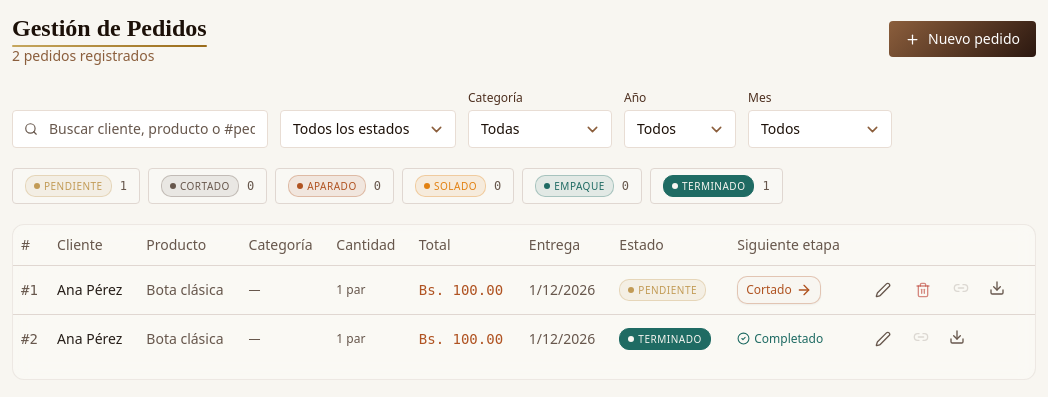
PedidosView — filtro por estado › el pill de estado alterna el filtro (click de nuevo lo desactiva)
Check: the text "#1" is shown, box [13,265,49,314]
Click the button "Pendiente 1".
click(76, 186)  # box [12,168,140,204]
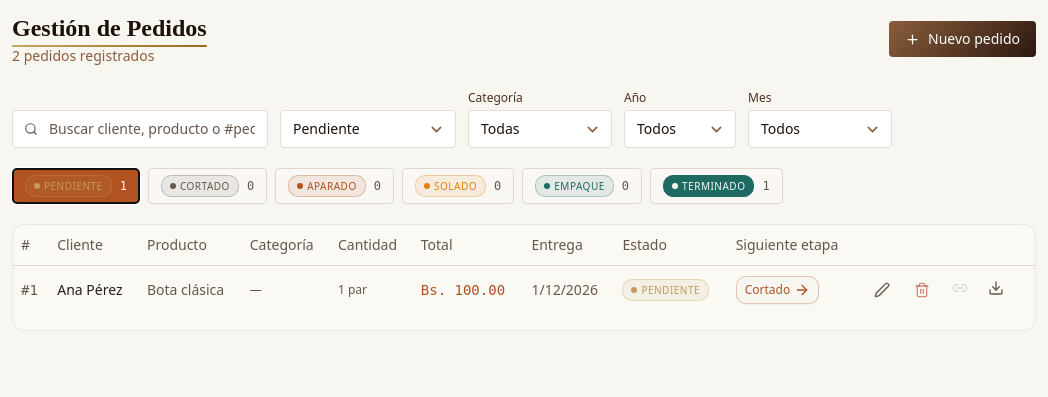
Check: the text "#1" is shown, box [13,265,49,314]
Check: the text "#2" is gone
Click the button "Pendiente 1".
click(76, 186)  # box [12,168,140,204]
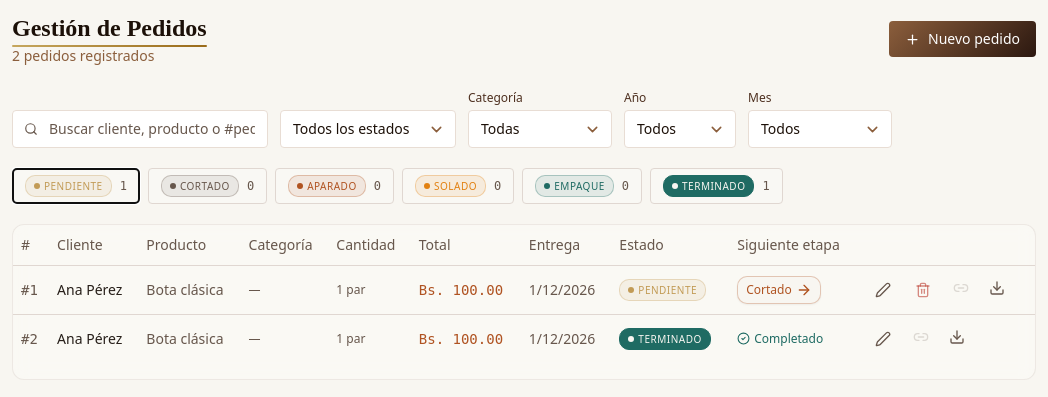
Check: the text "#1" is shown, box [13,265,49,314]
Check: the text "#2" is shown, box [13,314,49,362]
